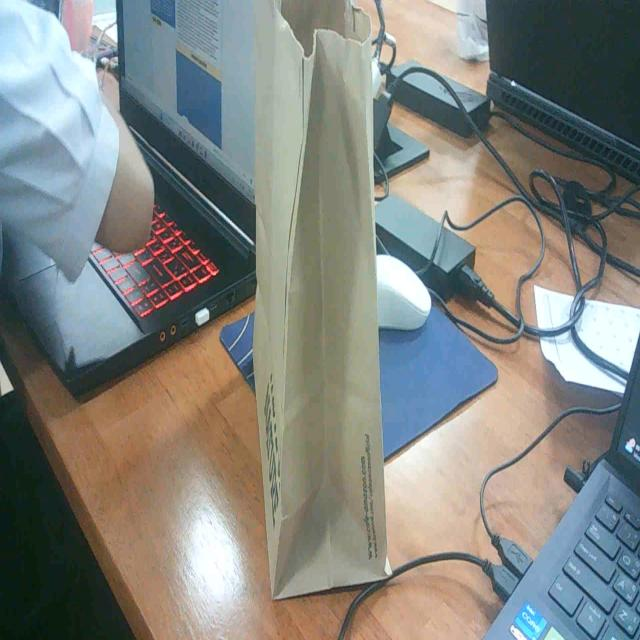bag: (234, 0, 416, 602)
